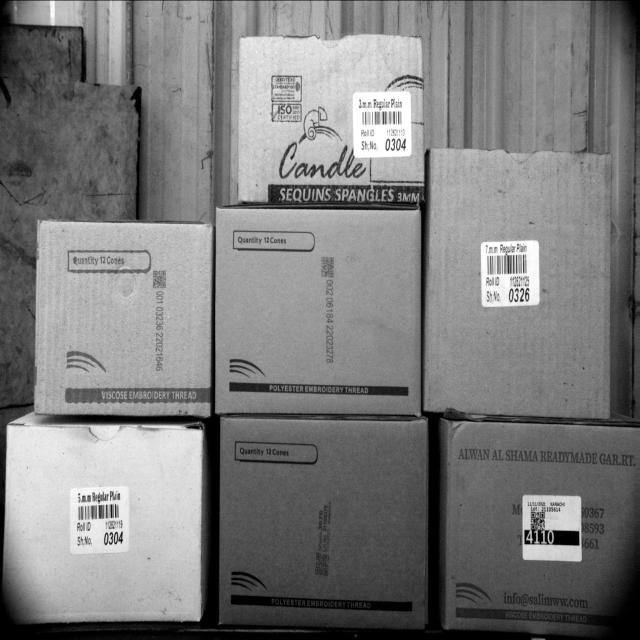cardboxes: (428, 152, 620, 416), (224, 423, 433, 639), (441, 414, 640, 632), (218, 208, 422, 416), (1, 426, 200, 626), (36, 214, 213, 419), (238, 35, 424, 215)
